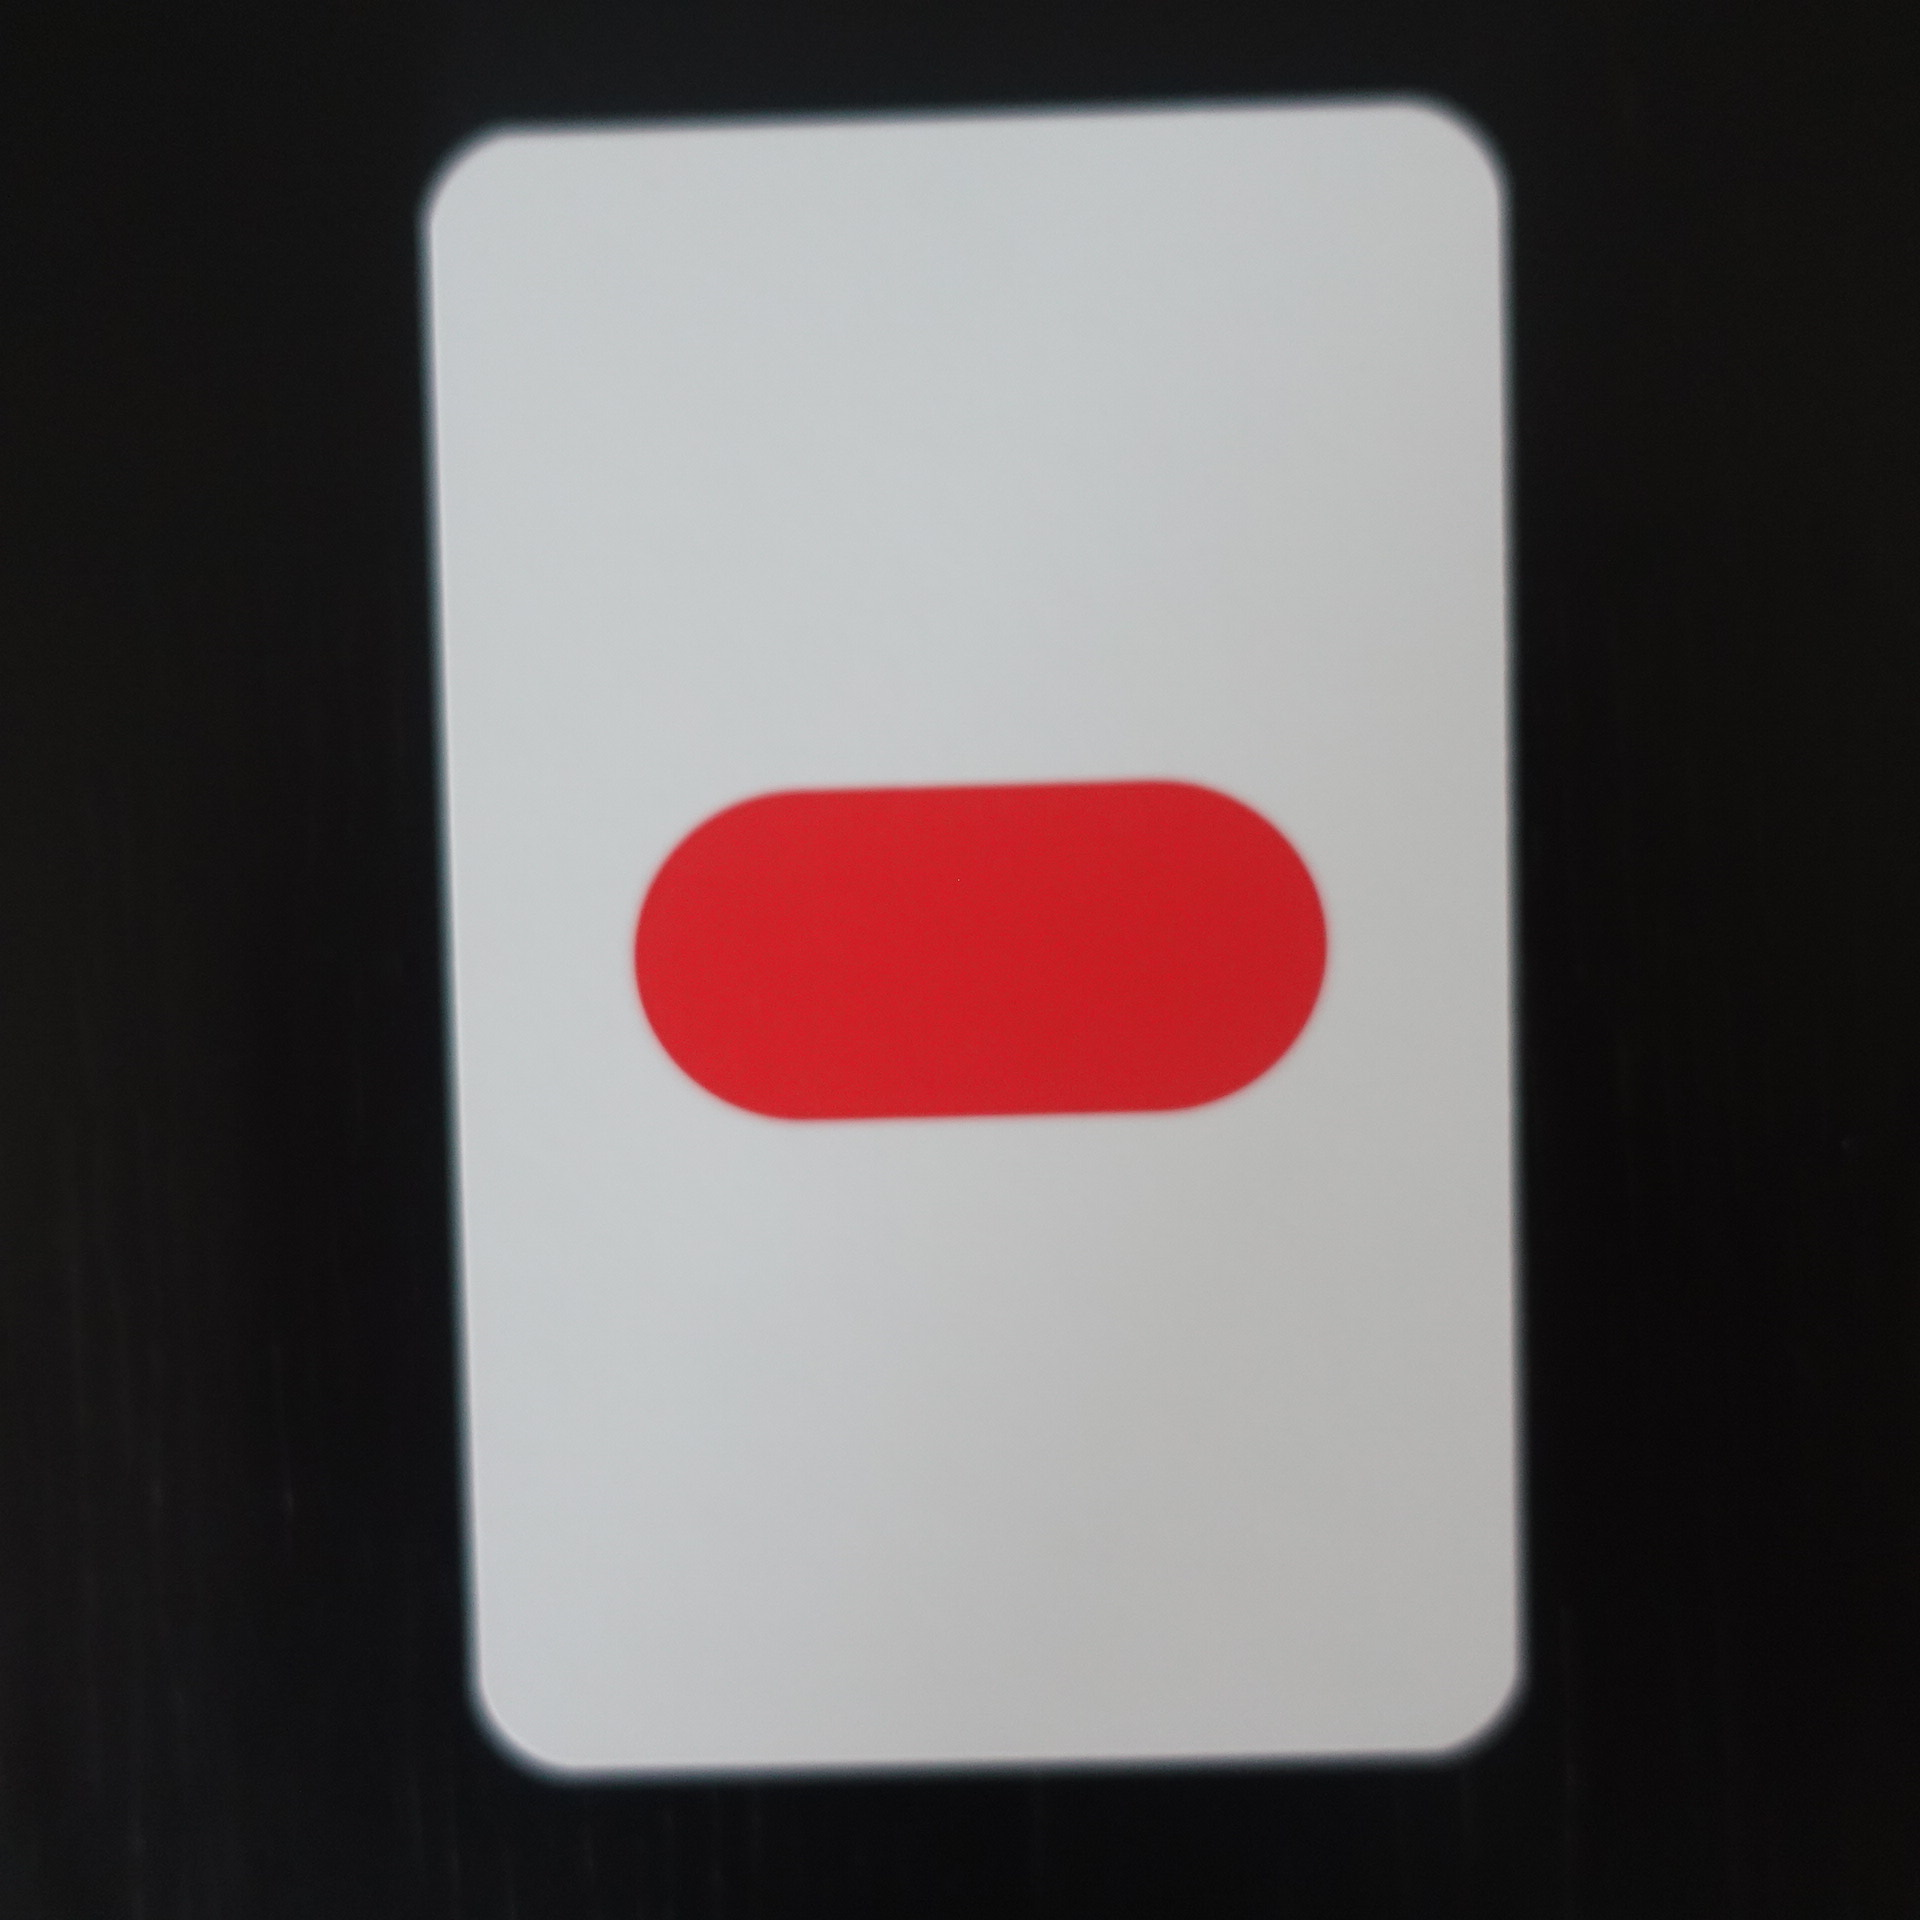c-1-f-o-r: (390, 70, 1560, 1806)
